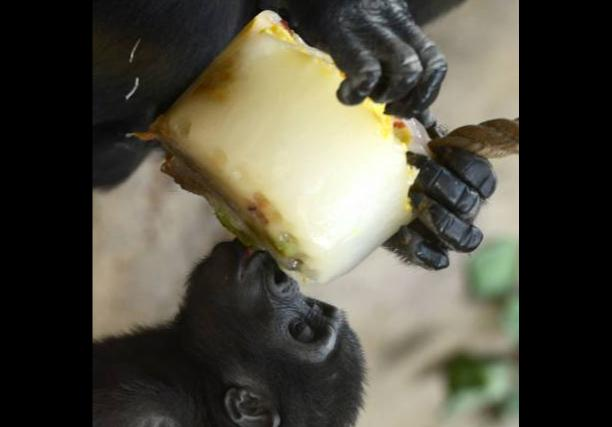gorille_Autres: (92, 211, 378, 427)
